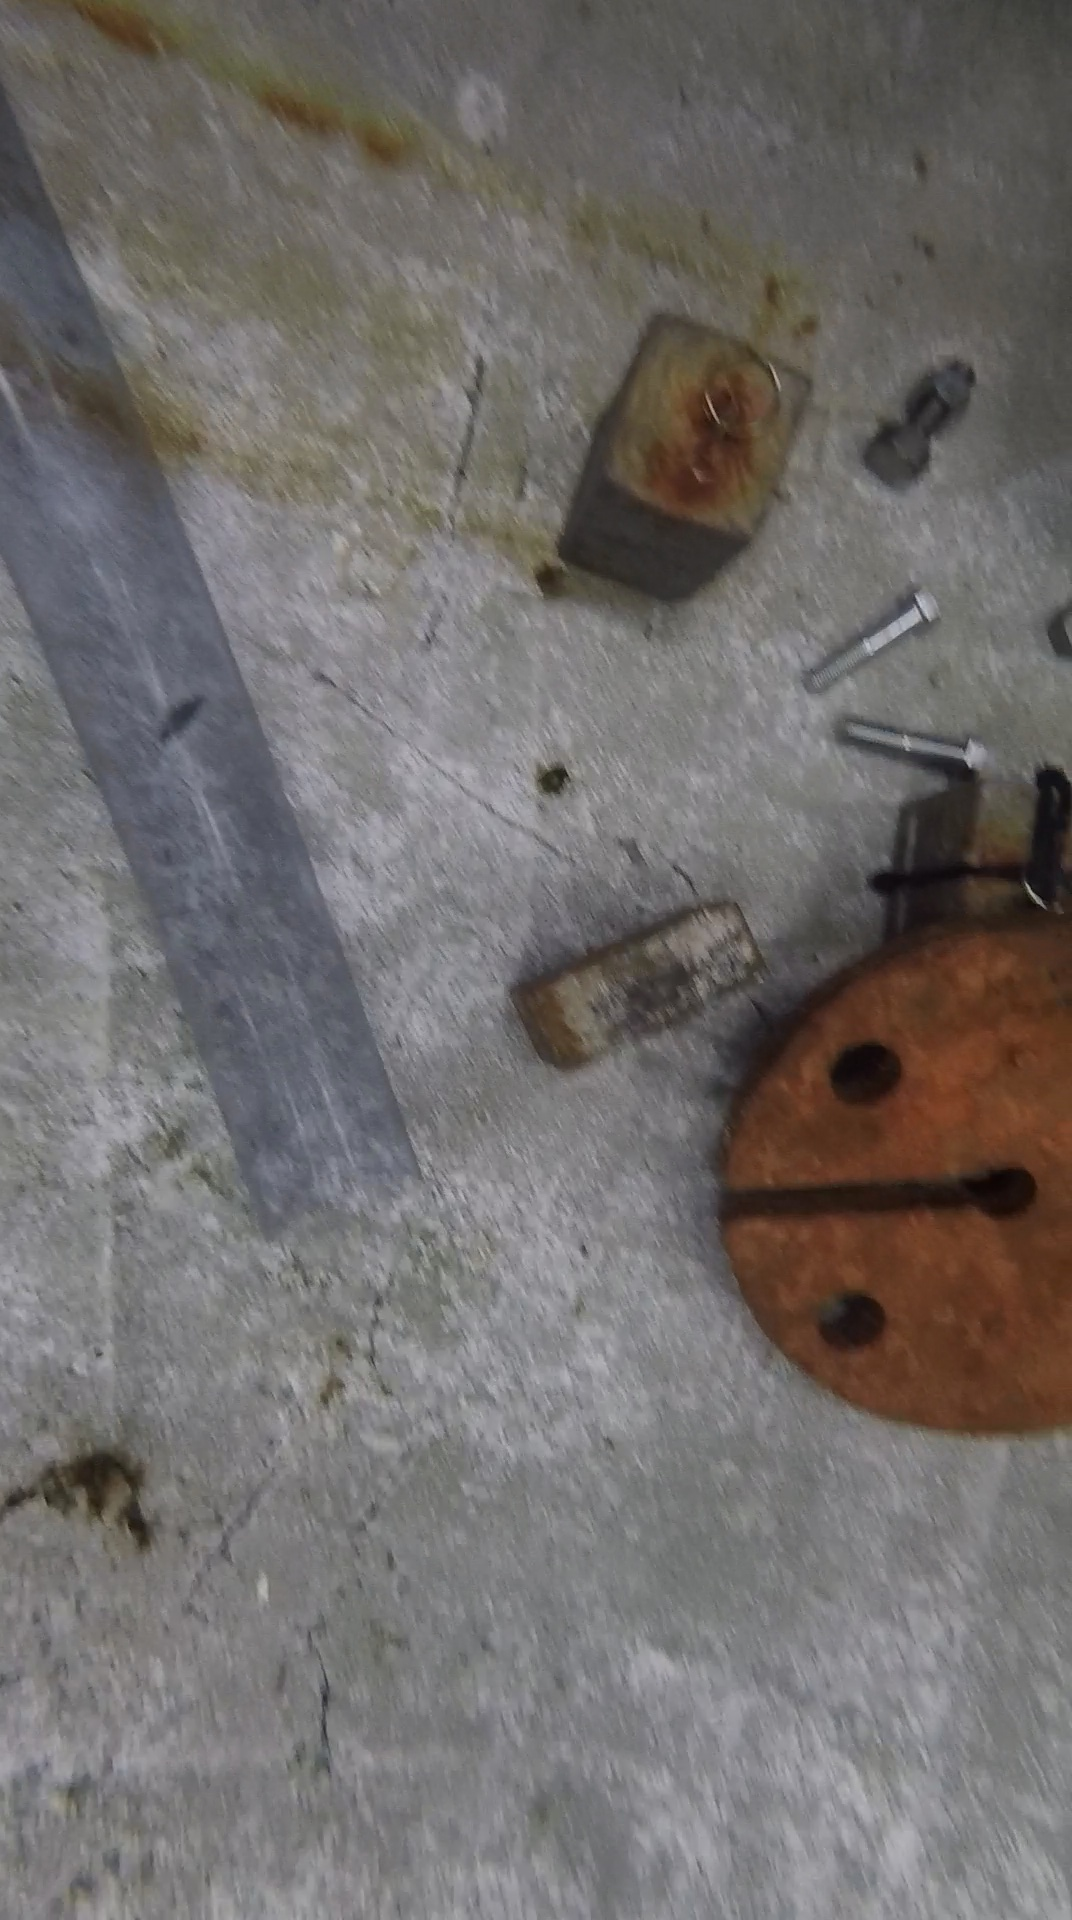bolt: (811, 583, 949, 694), (870, 359, 981, 484), (845, 717, 992, 775)
flange: (713, 920, 1072, 1436)
led_block: (570, 305, 820, 601), (520, 905, 769, 1073), (879, 766, 1072, 932)
nut: (912, 369, 978, 423)
pipe: (1, 80, 425, 1200)
